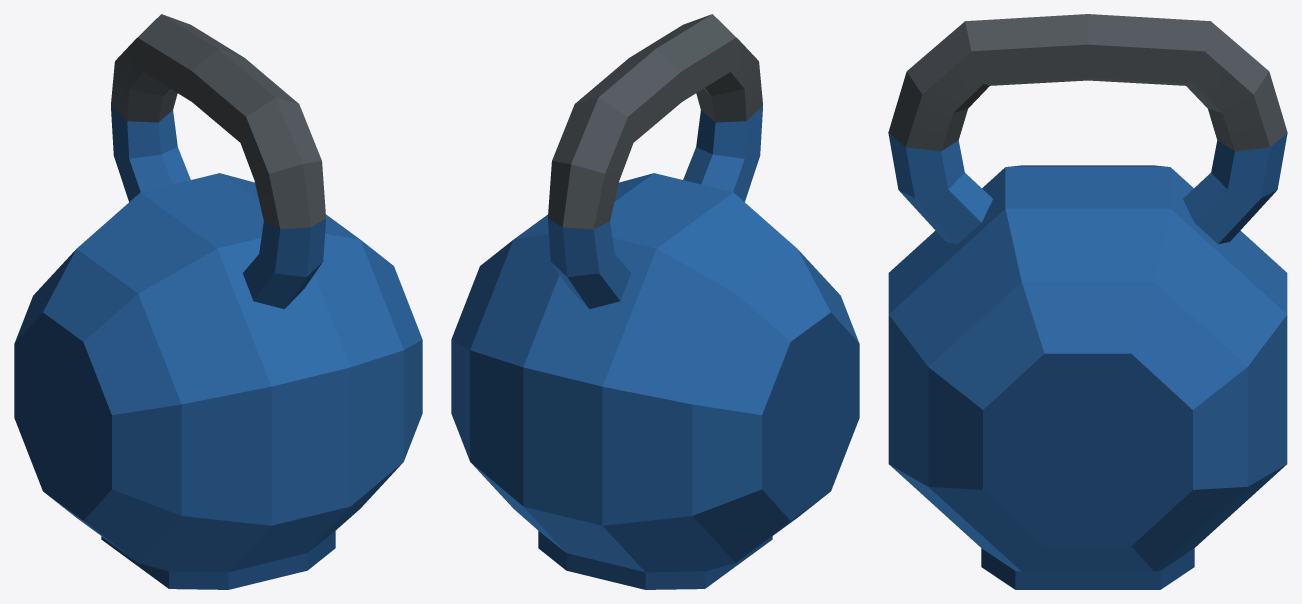
The model's file is SM_Prop_Gym_Kettle_Bell_01.obj.
3 renders of one model, left to right at view 1: azimuth 30°, elevation 25°; view 2: azimuth 150°, elevation 25°; view 3: azimuth 270°, elevation 25°, orthographic. The views are drawn at different scales.
Visible parts, largest first — view 1: SM_Prop_Gym_Kettle_Bell_01_0; view 2: SM_Prop_Gym_Kettle_Bell_01_0; view 3: SM_Prop_Gym_Kettle_Bell_01_0.
Boxes of the visible parts, x1,y1,x2,y2 form: SM_Prop_Gym_Kettle_Bell_01_0: (14, 14, 422, 589); SM_Prop_Gym_Kettle_Bell_01_0: (451, 14, 859, 589); SM_Prop_Gym_Kettle_Bell_01_0: (888, 14, 1287, 589).
Size of the model in its own units: 0.2425 by 0.3692 by 0.251.
Materials: 1 (1 with a texture image).
